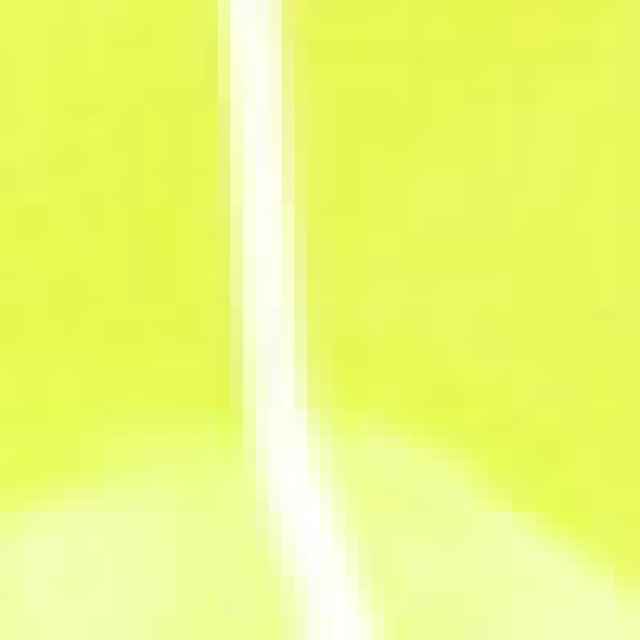fire: (0, 15, 640, 622)
